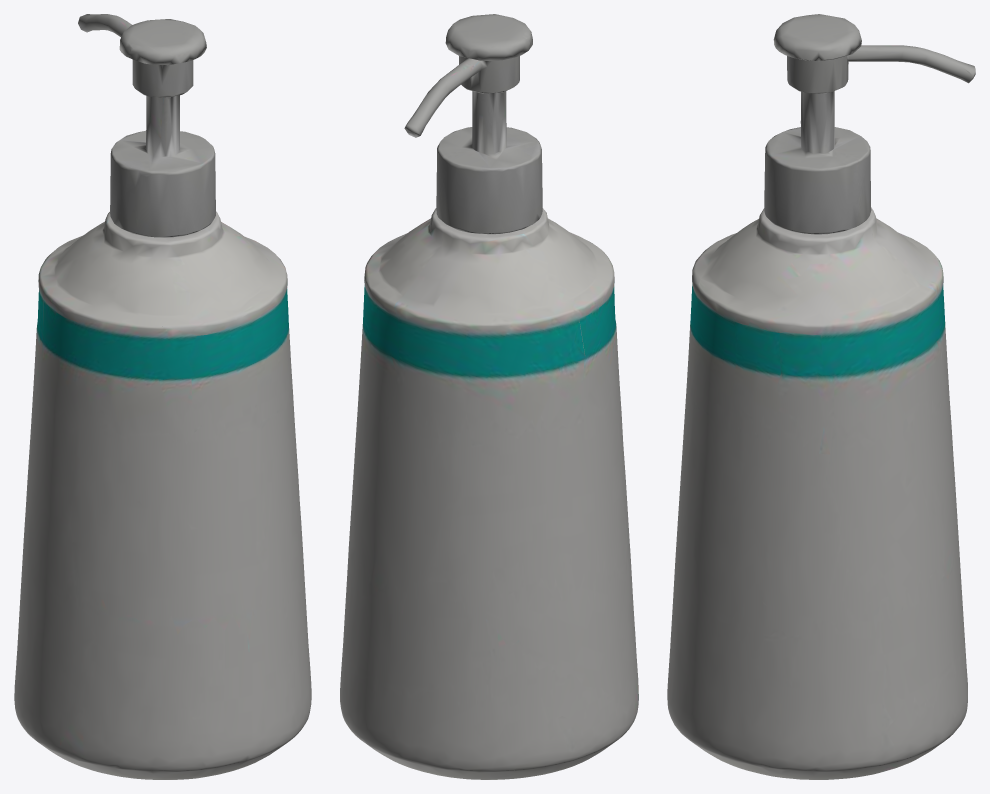
The model's file is dispenser-v1.glb.
3 views of the same model, side by side, from view 1: azimuth 30°, elevation 25°; view 2: azimuth 150°, elevation 25°; view 3: azimuth 270°, elevation 25° (orthographic).
Parts seen in each view (by area): view 1: prop__dispenser; view 2: prop__dispenser; view 3: prop__dispenser.
Boxes of the visible parts, x1,y1,x2,y2 form: prop__dispenser: (14,14,311,779); prop__dispenser: (340,14,638,779); prop__dispenser: (667,14,975,779).
Size of the model in its own units: 0.1009 by 0.26 by 0.1039.
Materials: 1 (1 with a texture image).
